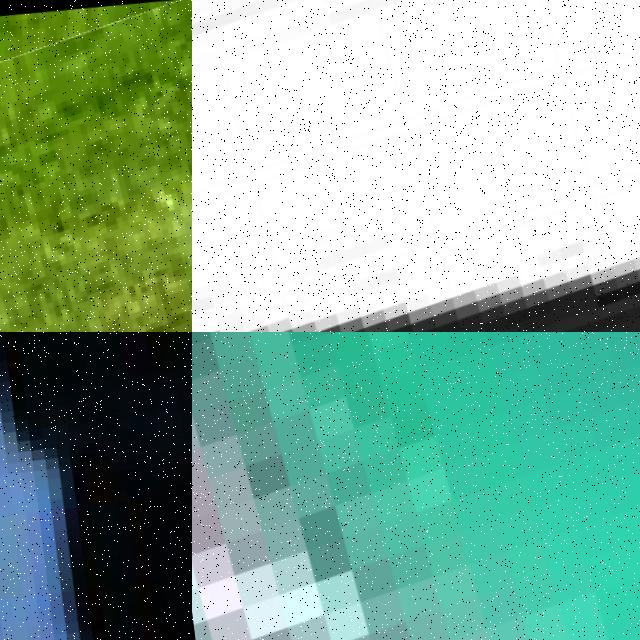drone: (192, 0, 640, 332), (192, 332, 640, 640), (0, 0, 192, 332)
